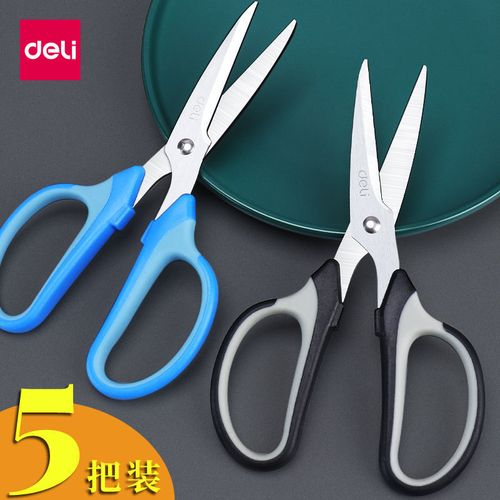scissor: (207, 57, 490, 498), (2, 1, 300, 405)
